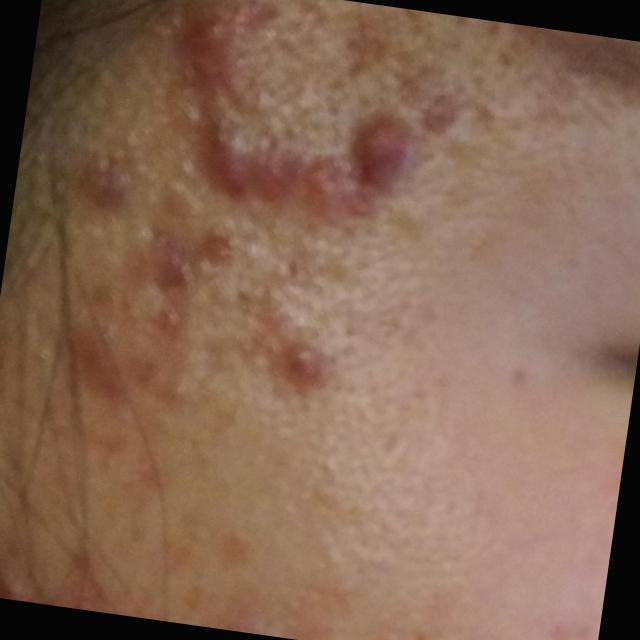nodule: (342, 119, 414, 197), (180, 12, 238, 61), (0, 568, 38, 603)
